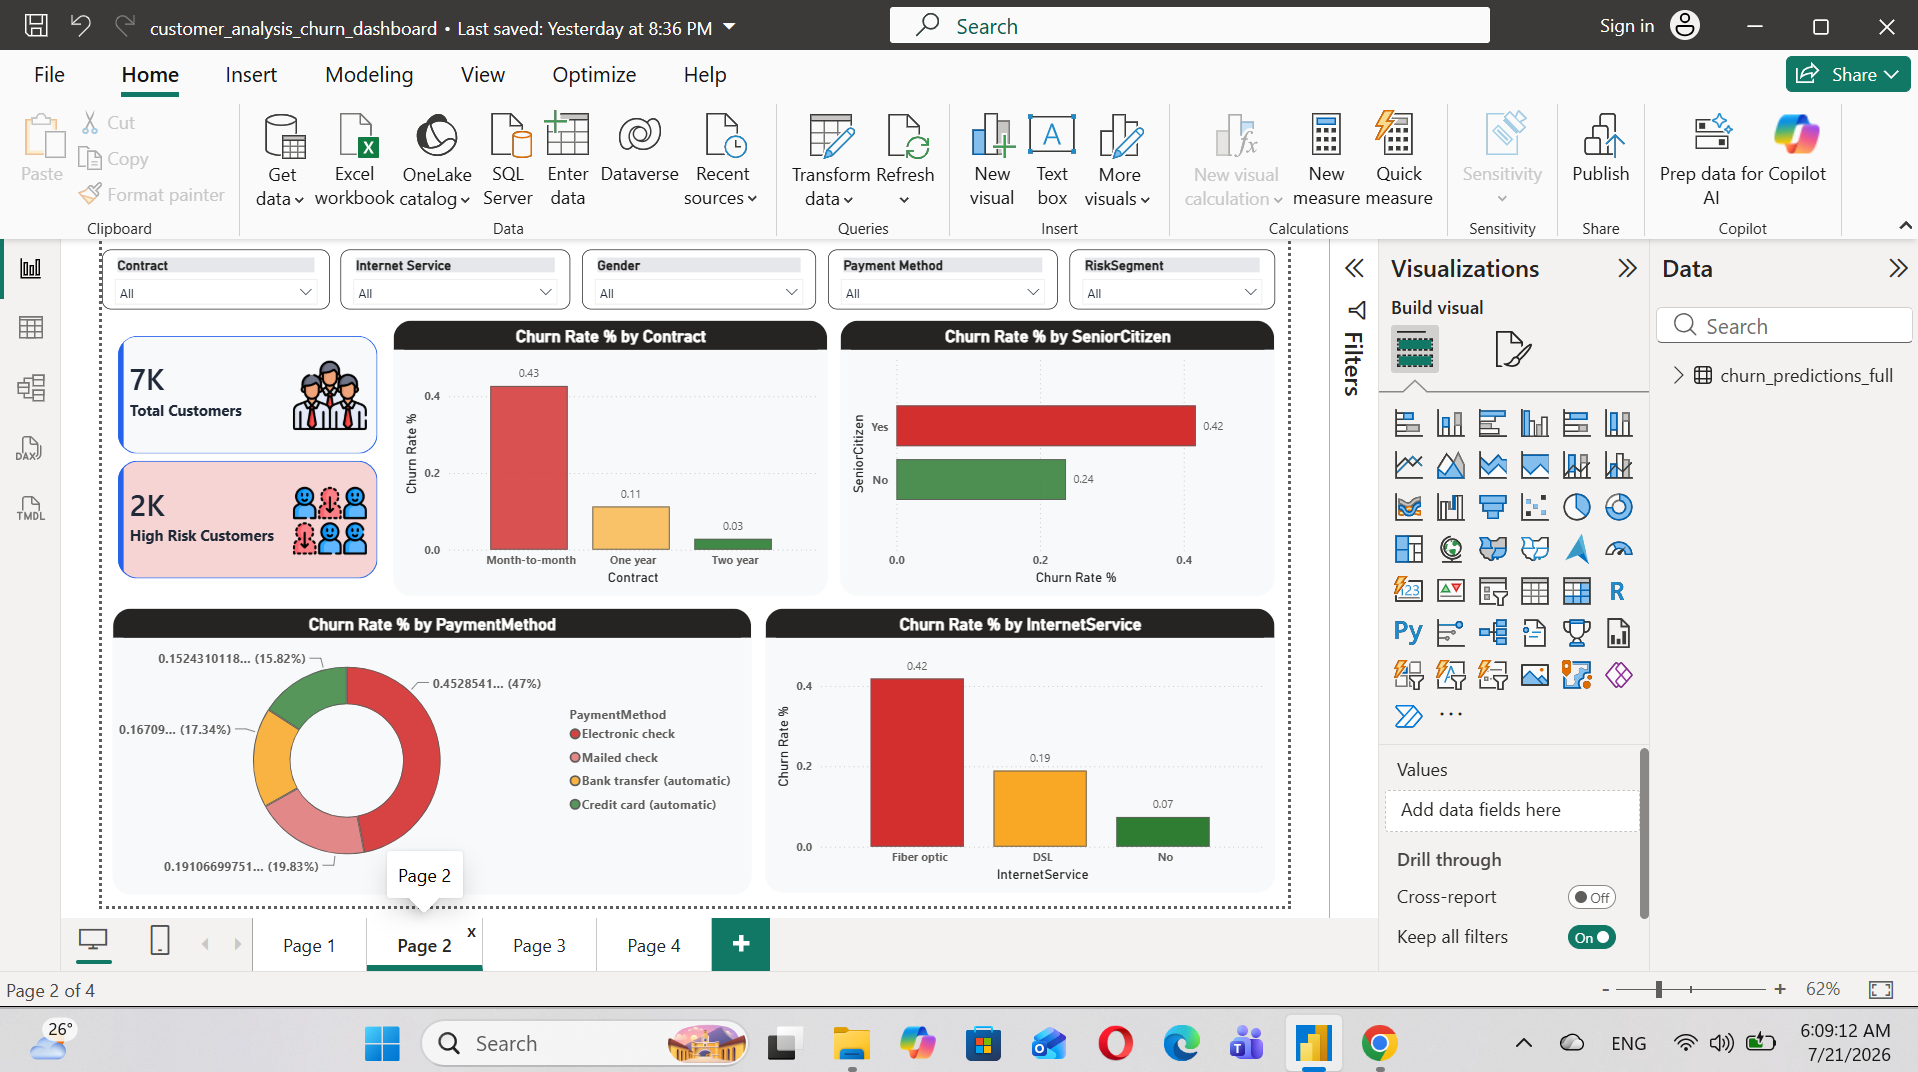

The dashboard page shown, as its layout file describes it:
{"tool":"powerbi","page":{"name":"Page 2","canvas":[1280,720],"ordinal":1},"visuals":[{"type":"clusteredColumnChart","fields":{"Category":["churn_predictions_full.Contract"],"Y":["churn_predictions_full.Churn Rate %"]},"box":[314.1,87.4,469.6,297.9],"z":0},{"type":"clusteredColumnChart","fields":{"Y":["churn_predictions_full.Churn Rate %"],"Category":["churn_predictions_full.InternetService"]},"box":[715.7,398.3,550.5,307.7],"z":1000},{"type":"donutChart","fields":{"Y":["churn_predictions_full.Churn Rate %"],"Category":["churn_predictions_full.PaymentMethod"]},"box":[11.3,398.3,689.8,309.3],"z":2000},{"type":"clusteredBarChart","fields":{"Y":["churn_predictions_full.Churn Rate %"],"Category":["churn_predictions_full.SeniorCitizen"]},"box":[796.7,87.4,469.6,297.9],"z":3000},{"type":"slicer","fields":{"Values":["churn_predictions_full.Contract"]},"box":[0,11.3,246.1,64.8],"z":4000},{"type":"slicer","fields":{"Values":["churn_predictions_full.InternetService"]},"box":[257.5,11.3,247.7,64.8],"z":5000},{"type":"slicer","fields":{"Values":["churn_predictions_full.gender"]},"box":[518.2,11.3,252.6,64.8],"z":6000},{"type":"slicer","fields":{"Values":["churn_predictions_full.PaymentMethod"]},"box":[783.7,11.3,247.7,64.8],"z":7000},{"type":"slicer","fields":{"Values":["churn_predictions_full.RiskSegment"]},"box":[1044.4,11.3,221.8,64.8],"z":8000},{"type":"cardVisual","fields":{"Data":["churn_predictions_full.Total Customers","churn_predictions_full.High Risk Customers"]},"box":[0,87.4,314.1,297.9],"z":9000}]}

Visuals, with their boxes on the page's 1280x720 design canvas (x1, y1, x2, y2). These are canvas units, not pixel positions in the 1918x1072 screenshot, which may show the page scaled, cropped or inside an application window:
clusteredColumnChart - churn_predictions_full.Contract x churn_predictions_full.Churn Rate %: {"x1": 314, "y1": 87, "x2": 784, "y2": 385}
clusteredColumnChart - churn_predictions_full.Churn Rate % x churn_predictions_full.InternetService: {"x1": 716, "y1": 398, "x2": 1266, "y2": 706}
donutChart - churn_predictions_full.Churn Rate % x churn_predictions_full.PaymentMethod: {"x1": 11, "y1": 398, "x2": 701, "y2": 708}
clusteredBarChart - churn_predictions_full.Churn Rate % x churn_predictions_full.SeniorCitizen: {"x1": 797, "y1": 87, "x2": 1266, "y2": 385}
slicer - churn_predictions_full.Contract: {"x1": 0, "y1": 11, "x2": 246, "y2": 76}
slicer - churn_predictions_full.InternetService: {"x1": 258, "y1": 11, "x2": 505, "y2": 76}
slicer - churn_predictions_full.gender: {"x1": 518, "y1": 11, "x2": 771, "y2": 76}
slicer - churn_predictions_full.PaymentMethod: {"x1": 784, "y1": 11, "x2": 1031, "y2": 76}
slicer - churn_predictions_full.RiskSegment: {"x1": 1044, "y1": 11, "x2": 1266, "y2": 76}
cardVisual - churn_predictions_full.Total Customers x churn_predictions_full.High Risk Customers: {"x1": 0, "y1": 87, "x2": 314, "y2": 385}
